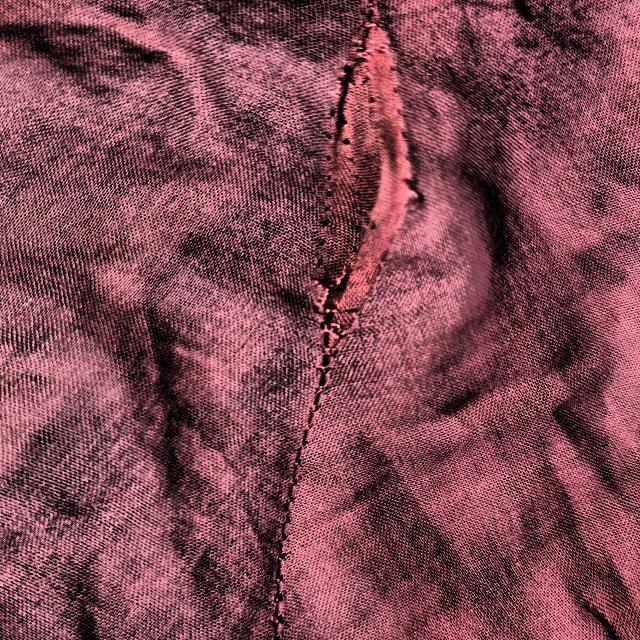gray stitch: (270, 7, 443, 367)
